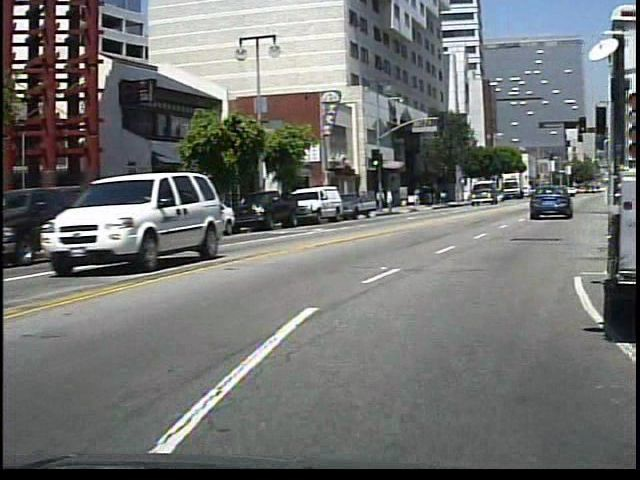person: (386, 186, 401, 215)
